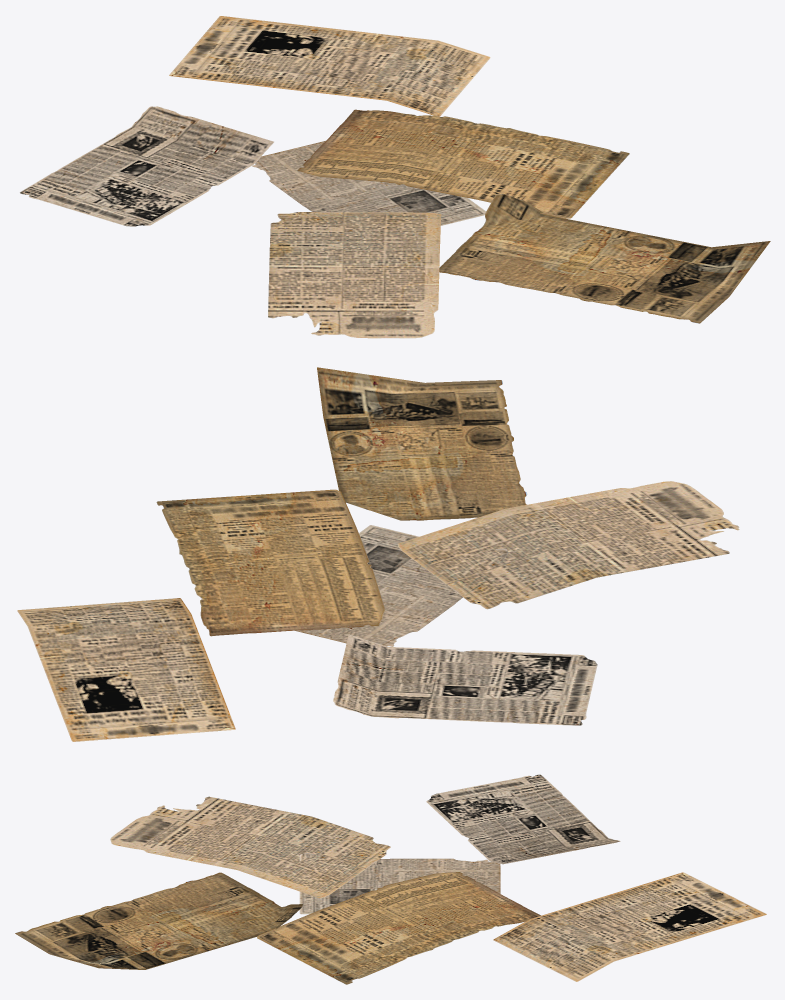
Rendered from Prop_ScrapDecalB.fbx.
The picture shows the model from 3 angles, top to bottom: view 1: azimuth 30°, elevation 25°; view 2: azimuth 150°, elevation 25°; view 3: azimuth 270°, elevation 25°; orthographic projection. The views are drawn at different scales.
Visible parts, largest first — view 1: Mesh; view 2: Mesh; view 3: Mesh.
Part boxes in pixels (x1,y1,x2,y2): Mesh: [20, 16, 770, 338]; Mesh: [17, 367, 739, 741]; Mesh: [15, 774, 766, 984].
Size of the model in its own units: 51.9 by 1.97 by 77.9.
